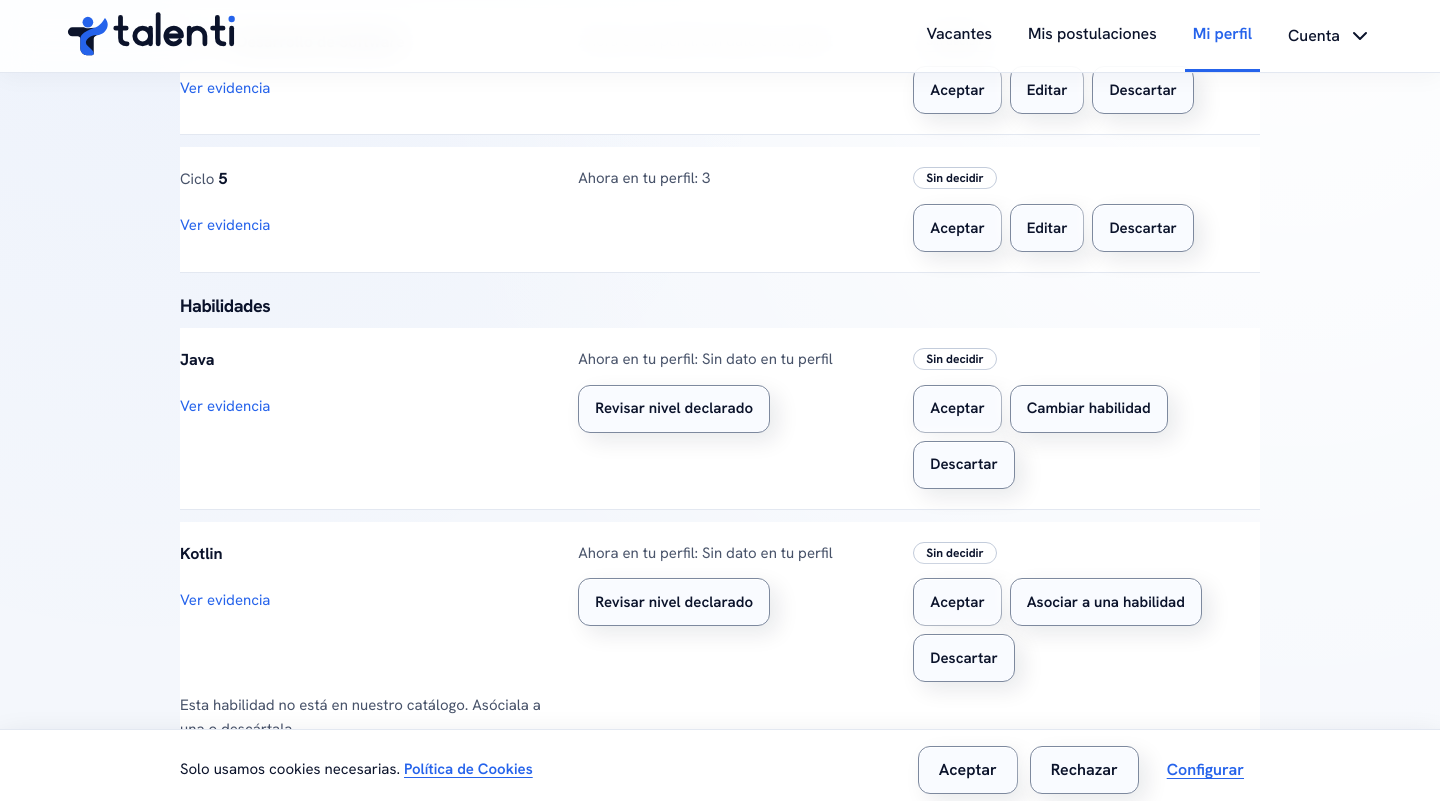
Test case: Review (009-21, 009-22) › 009-22: a 422 on a field points at that suggestion and keeps every decision
(page scrolled)
Step 1. Click the 1st button "Revisar nivel declarado" → (674, 409), box [578, 385, 770, 433]
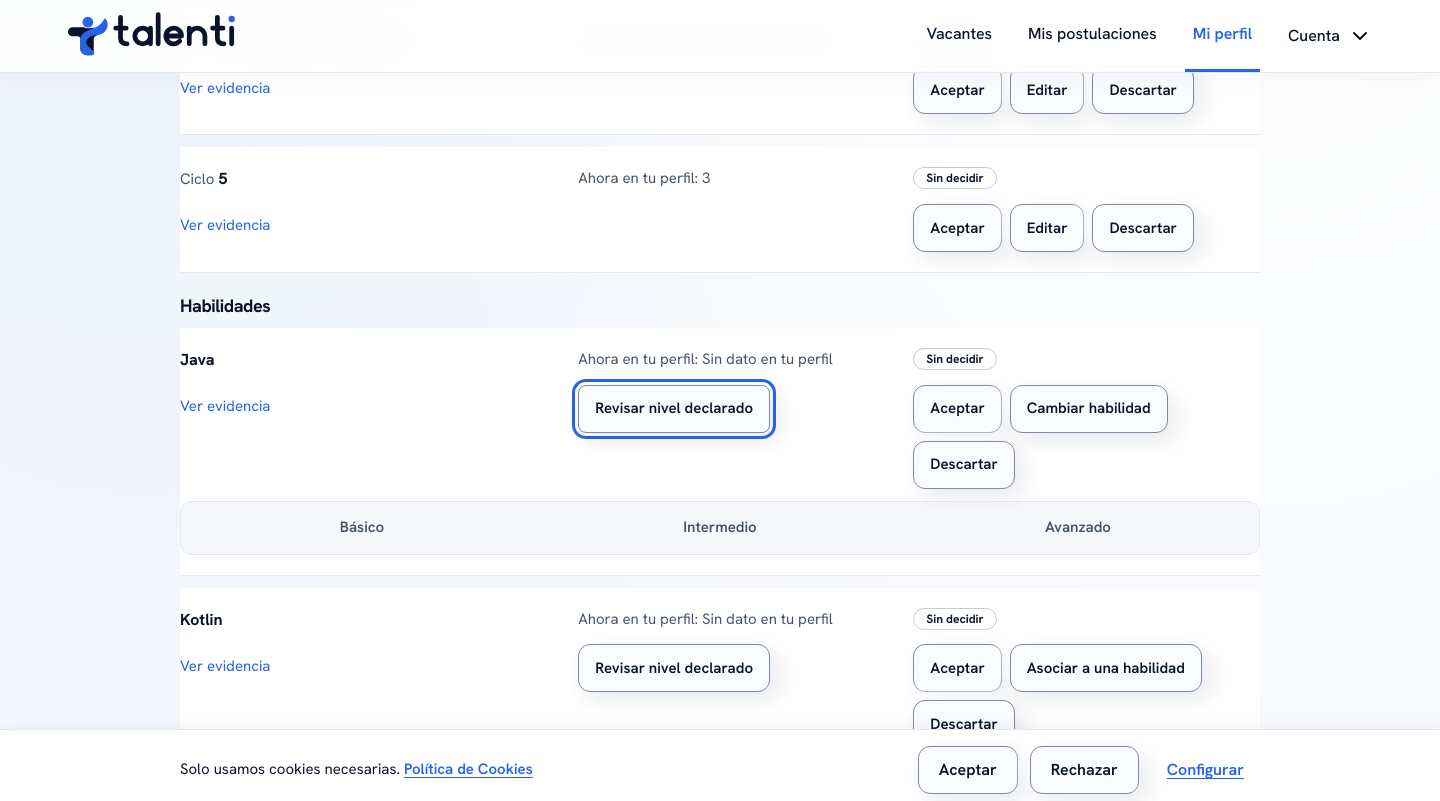
Step 2. Click the radio button labelled "Básico" → (362, 527), box [340, 517, 384, 537]
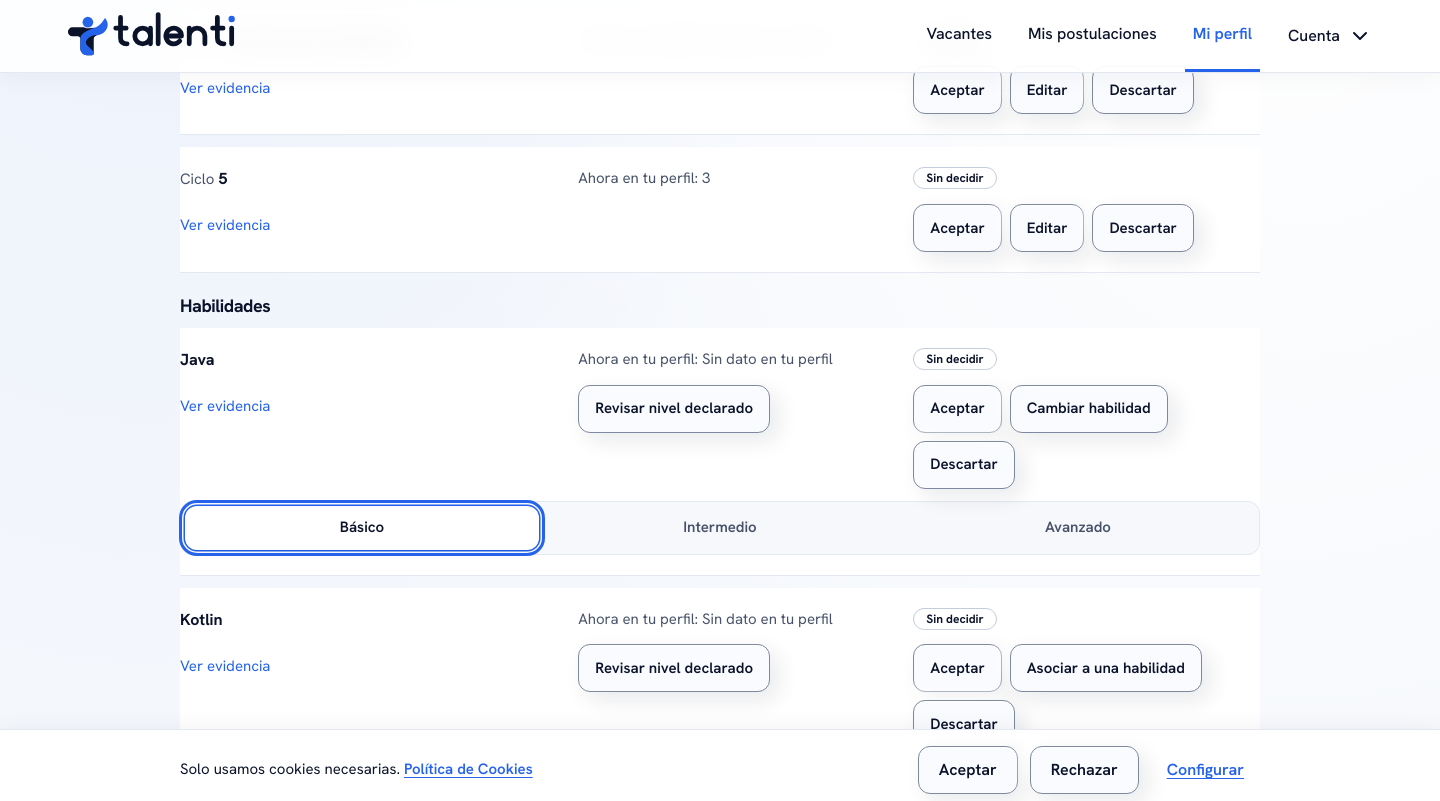
Step 3. Click the 3rd button "Aceptar" → (958, 409), box [913, 385, 1002, 433]
(page scrolled)
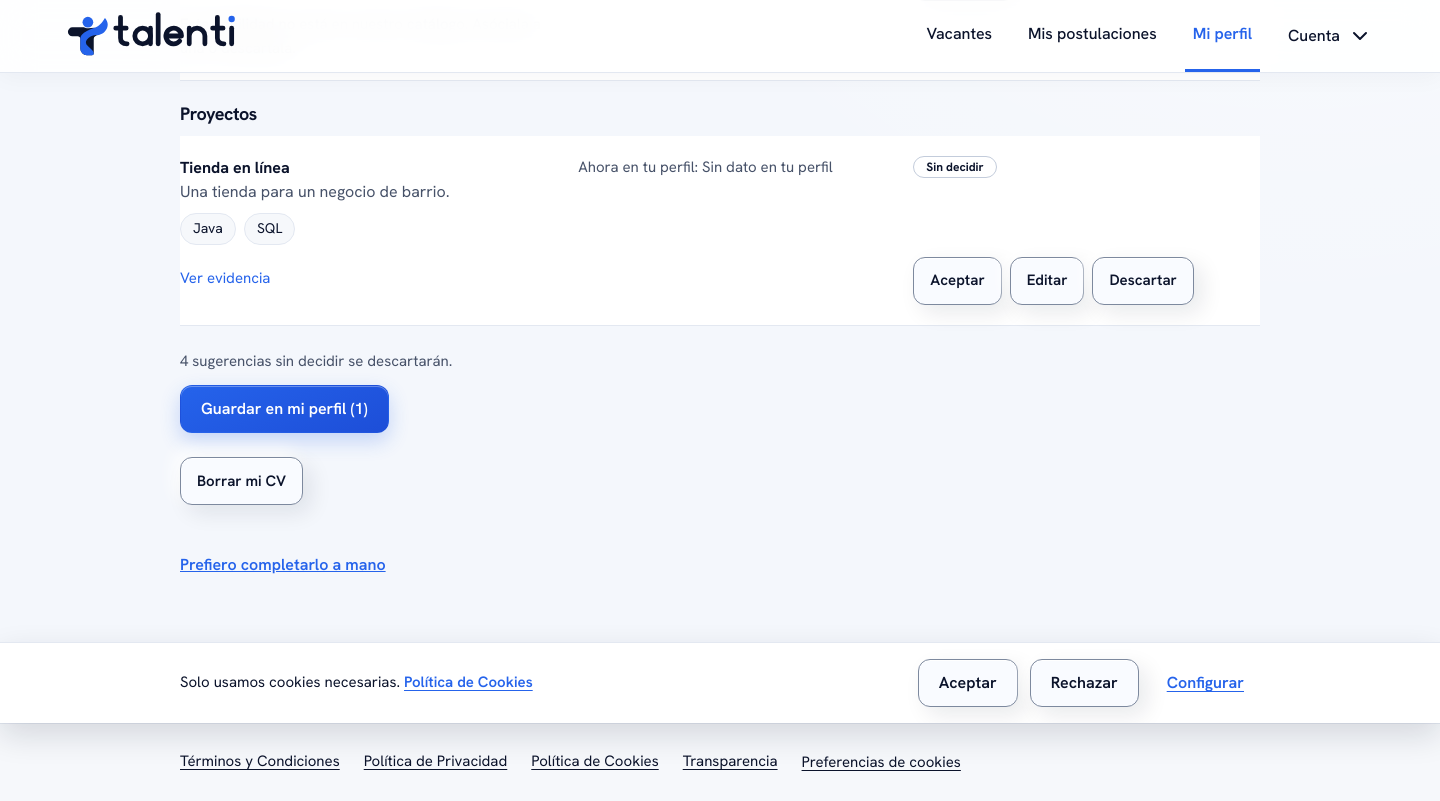
Step 4. Click the button "Guardar en mi perfil (1)" → (284, 409), box [180, 385, 389, 433]
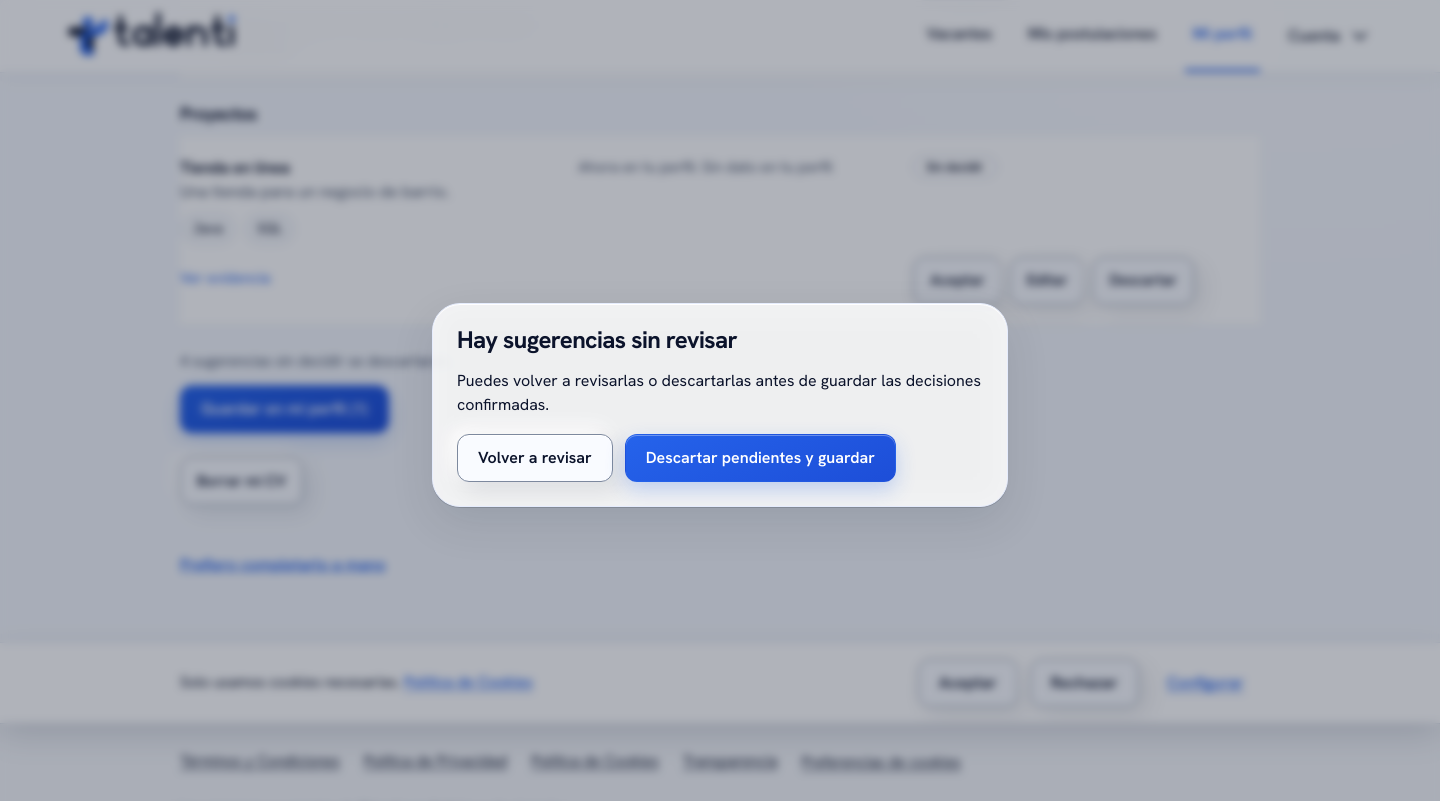
Step 5. Click the button "Descartar pendientes y guardar" → (760, 458), box [625, 434, 896, 482]
(page scrolled)
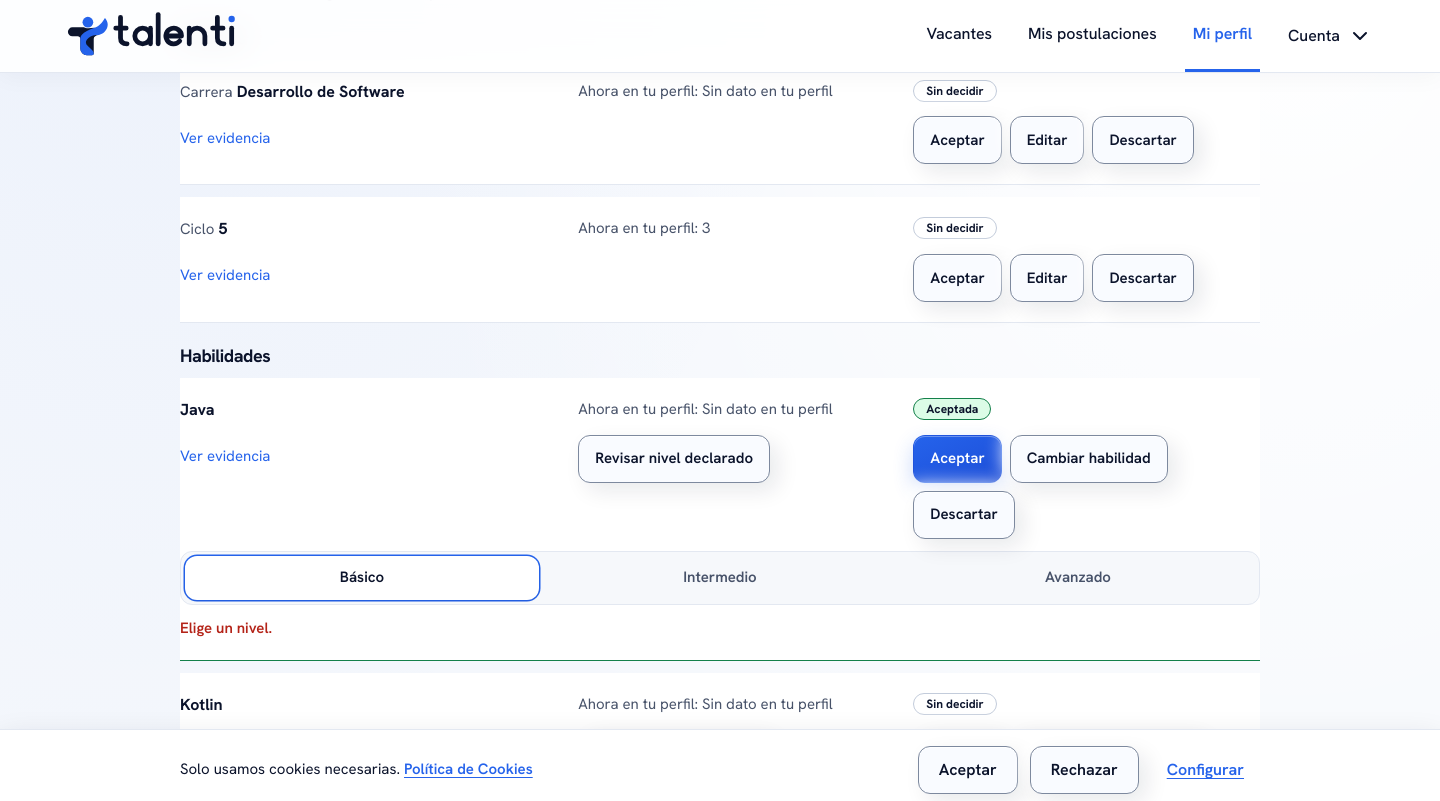
Expected: the text "Aceptada" is shown, [913, 398, 991, 420]
Expected: the text "Elige un nivel." is shown, [180, 618, 272, 638]
